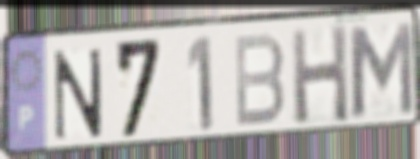1: (186, 32, 216, 137)
7: (113, 37, 164, 143)
B: (232, 31, 287, 131)
H: (288, 21, 352, 128)
M: (345, 19, 417, 120)
N: (52, 45, 105, 144)
